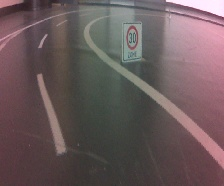zone 30 sign: (120, 19, 144, 64)
